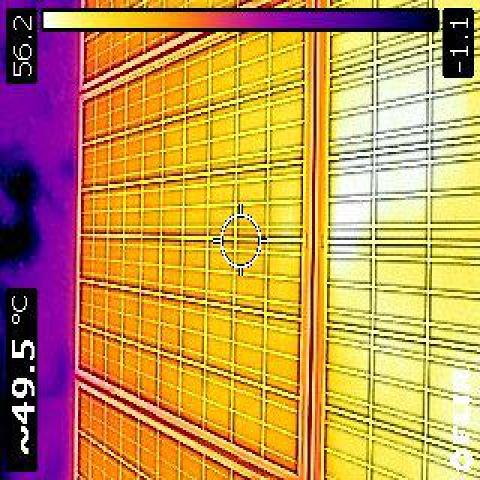fault: (334, 60, 440, 246)
